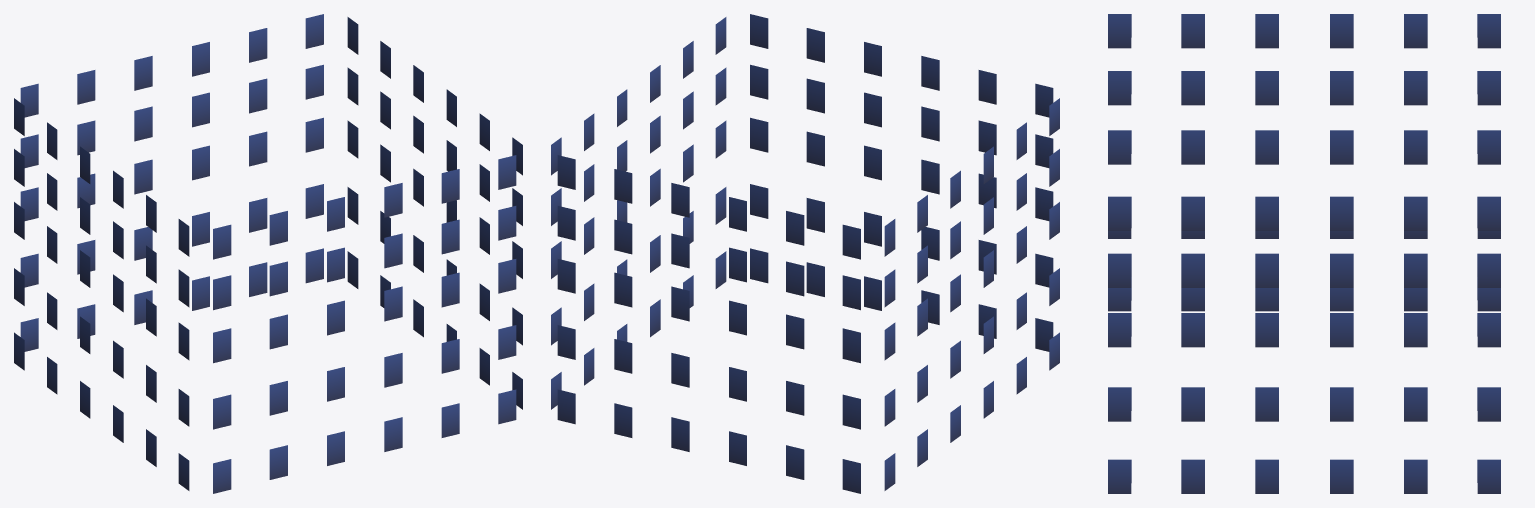
Rendered from windowRefl.131.fbx.
The picture shows the model from 3 angles, left to right: view 1: azimuth 30°, elevation 25°; view 2: azimuth 150°, elevation 25°; view 3: azimuth 270°, elevation 25°; orthographic projection. The views are drawn at different scales.
Parts seen in each view (by area): view 1: windowRefl.131; view 2: windowRefl.131; view 3: windowRefl.131.
Part boxes in pixels (x1,y1,x2,y2): windowRefl.131: (14,14,522,493); windowRefl.131: (551,14,1059,493); windowRefl.131: (1108,14,1500,493).
Size of the model in its own units: 2133 by 2133 by 1619.
